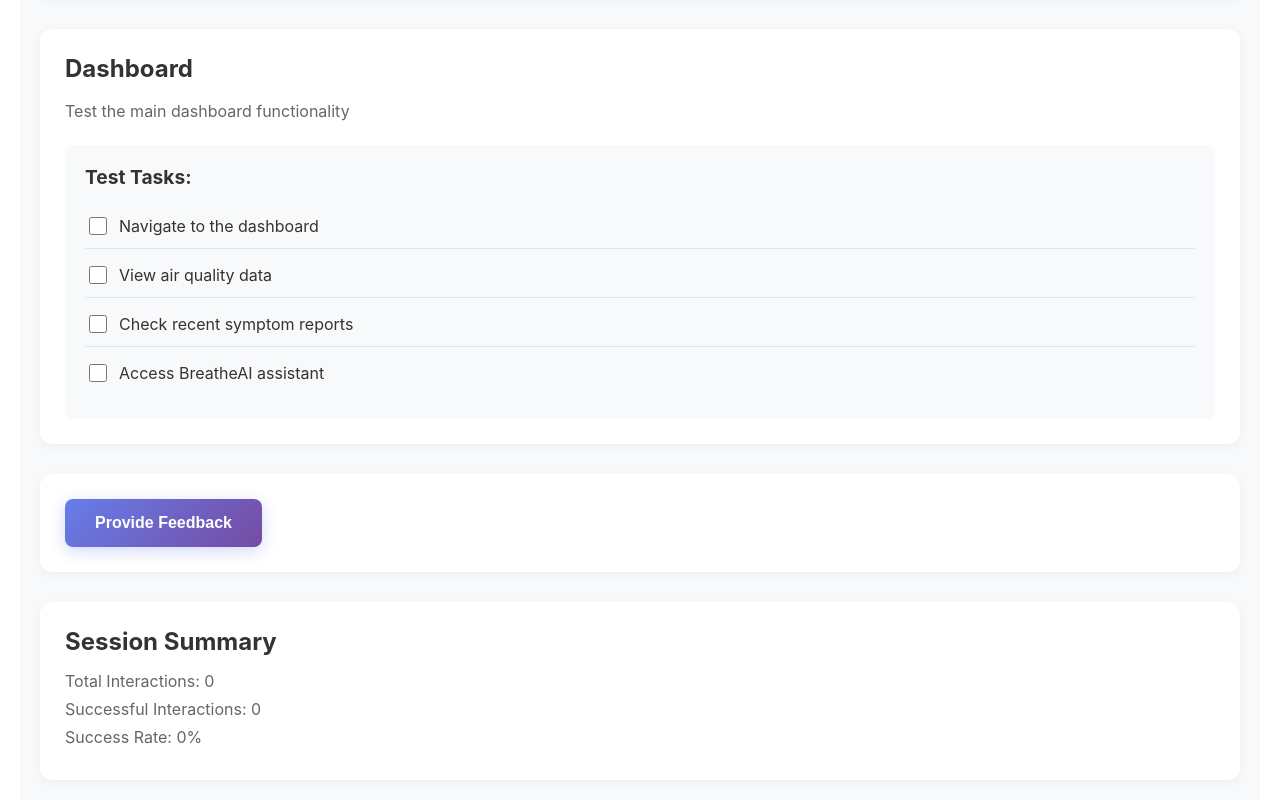
UserTesting Component › closes feedback form when cancel is clicked
(page scrolled)
What coordinates should you click on to do the following:
click the button "Provide Feedback"
I would click on:
 (164, 523)
Its box is x1=65 y1=499 x2=262 y2=547.
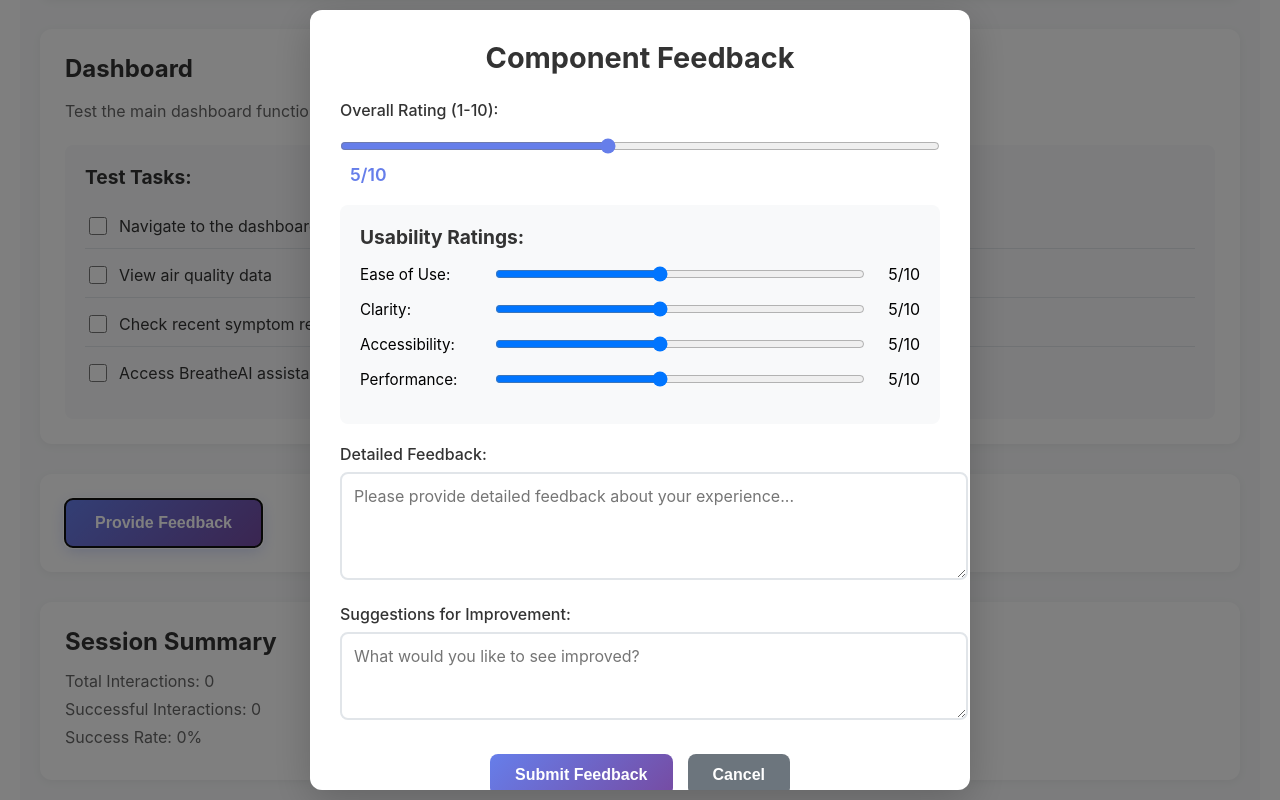
Check: the heading "Component Feedback" is shown, box x1=486 y1=40 x2=794 y2=75
What coordinates should you click on to do the following:
click the button "Cancel"
I would click on:
 (739, 775)
Its box is x1=688 y1=754 x2=790 y2=796.
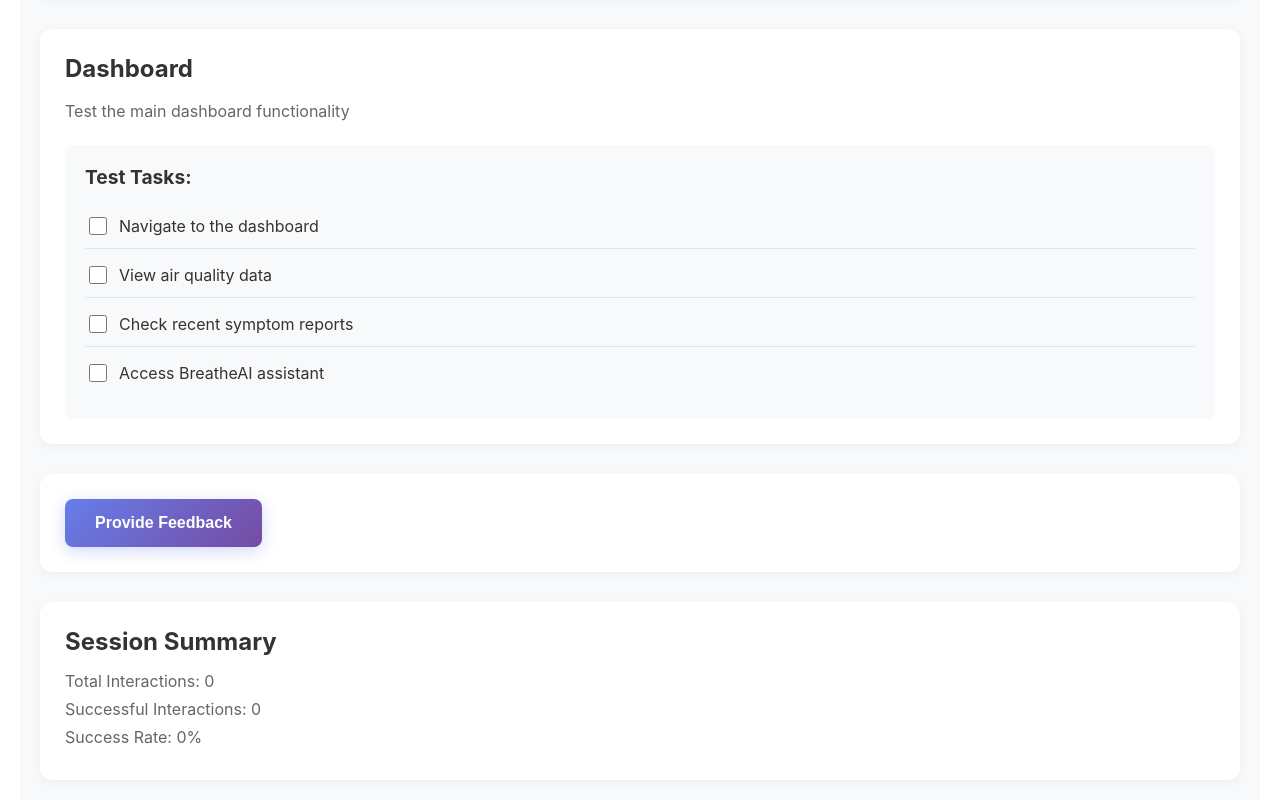
Check: the heading "Component Feedback" is gone
